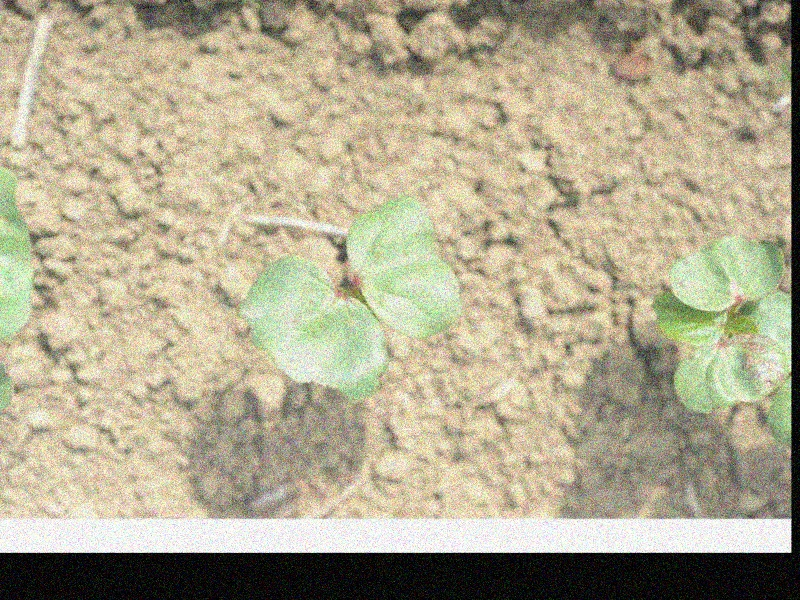cotton: (237, 195, 461, 404), (652, 230, 791, 447)
